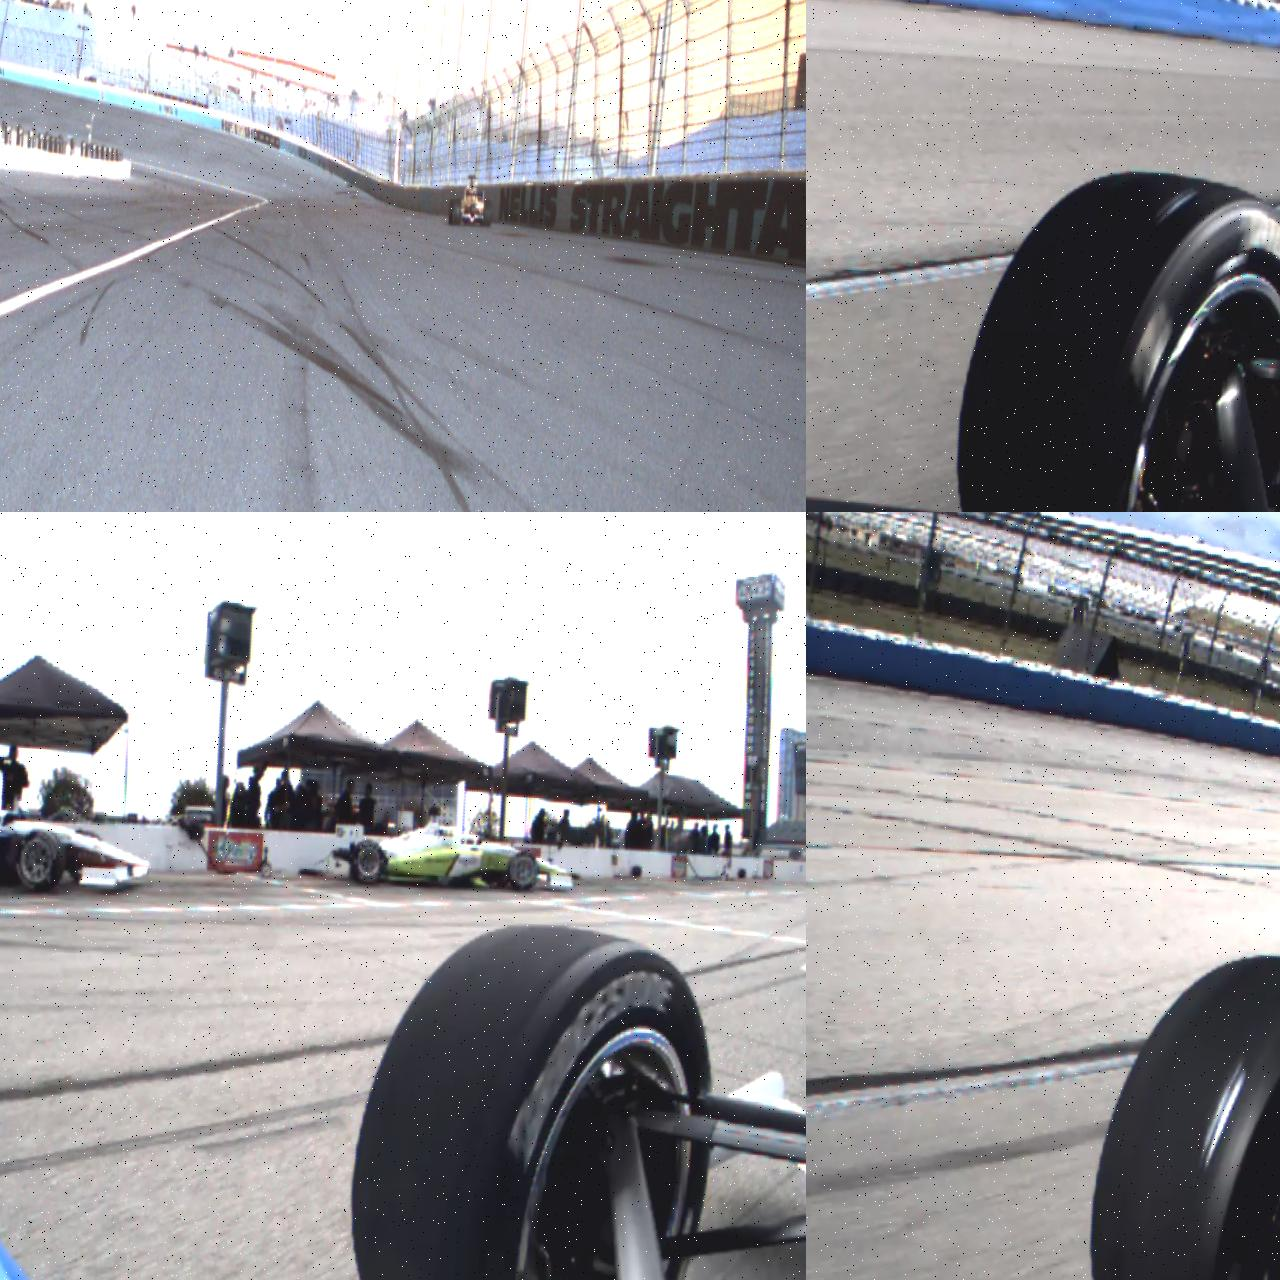AV: (332, 799, 582, 894), (0, 762, 153, 900), (448, 173, 493, 227)
Wheel: (338, 916, 724, 1280), (944, 162, 1280, 512), (1077, 946, 1280, 1280), (14, 827, 66, 895), (350, 838, 386, 886), (508, 850, 538, 890), (482, 199, 492, 226), (452, 198, 461, 225), (447, 198, 454, 224)
